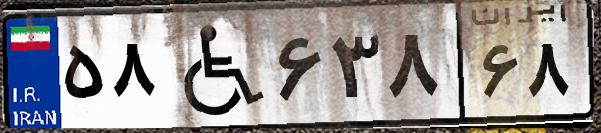3: (330, 28, 385, 110)
5: (57, 26, 110, 100)
6: (270, 28, 330, 110), (475, 38, 525, 113)
8: (385, 28, 445, 110), (525, 38, 570, 115), (110, 28, 158, 98)
ژ (معلولین و جانبازان): (158, 12, 270, 120)
